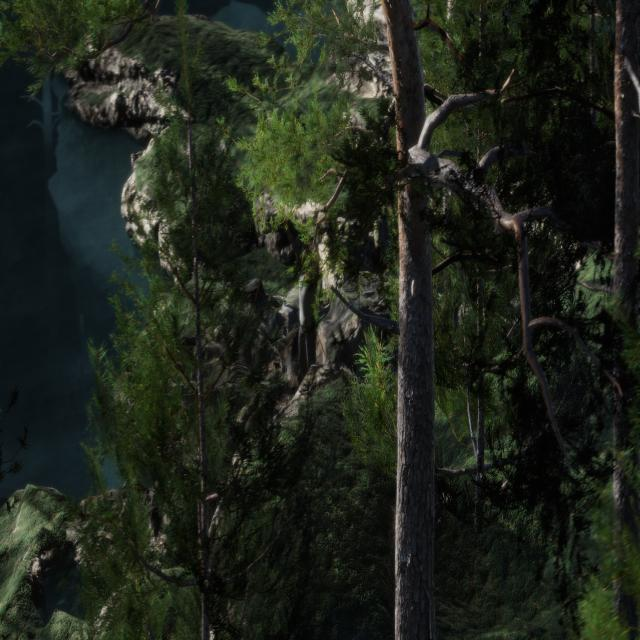Human: (292, 235, 326, 392)
